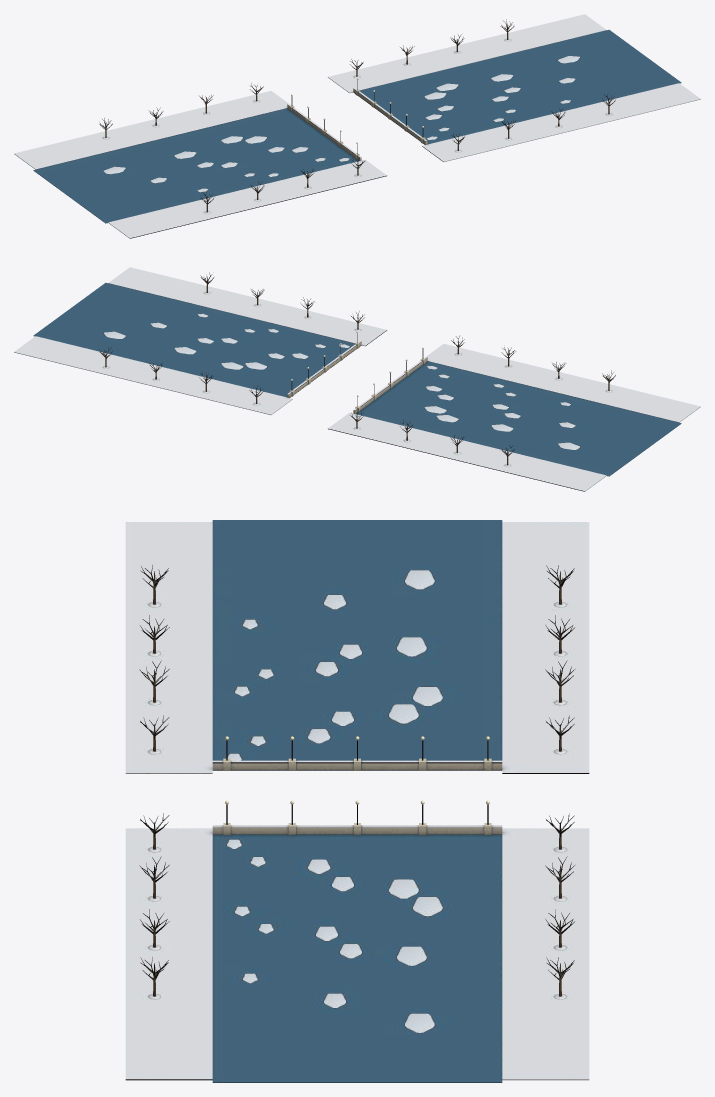
Rendered from rio.glb.
3 renders of one model, top to bottom at view 1: azimuth 30°, elevation 25°; view 2: azimuth 150°, elevation 25°; view 3: azimuth 270°, elevation 25°, orthographic. The views are drawn at different scales.
Parts seen in each view (by area): view 1: rio; view 2: rio; view 3: rio.
Part boxes in pixels (box(x1,y1,x2,y2)): rio: box(14, 14, 700, 238); rio: box(14, 267, 700, 491); rio: box(125, 520, 589, 1082).
Bounding box in the file's own units: 184 × 6.02 × 64.
Materials: 1 (1 with a texture image).
